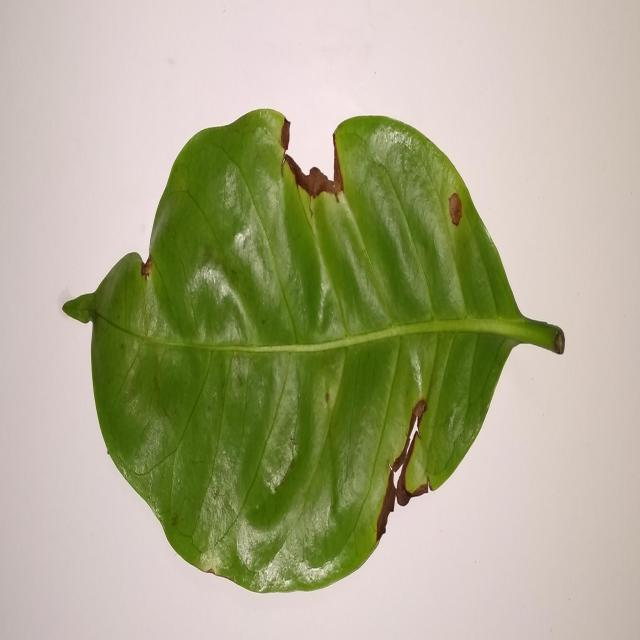Enfermedad-Antracnosis: (60, 109, 566, 601)
